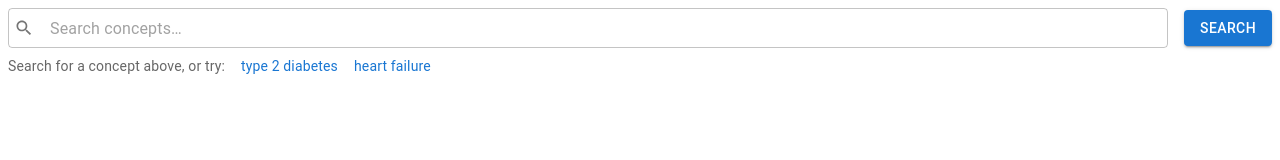
Scenario: Search › autocomplete › clears the suggestions when the input is cleared, even if the hook still holds data
The width and height of the screenshot is (1280, 160).
Type "asth" into the dropdown labelled "Search".
click(601, 28); type("asth")  # box [42,14,1159,42]
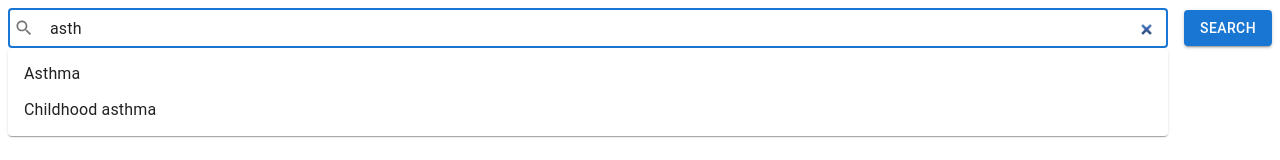
Expected: the list is shown, [24,64,156,119]
Clear the dropdown named "Search" at (601,28), box [42,14,1159,42]
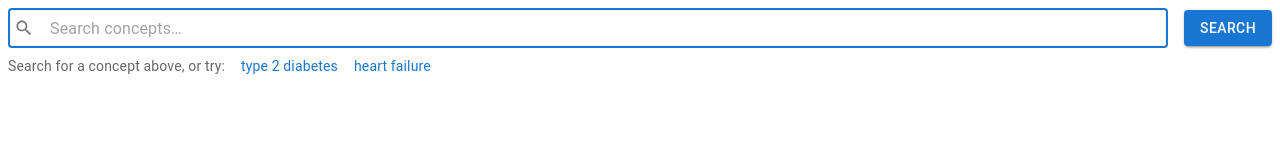
Expected: the list is gone
